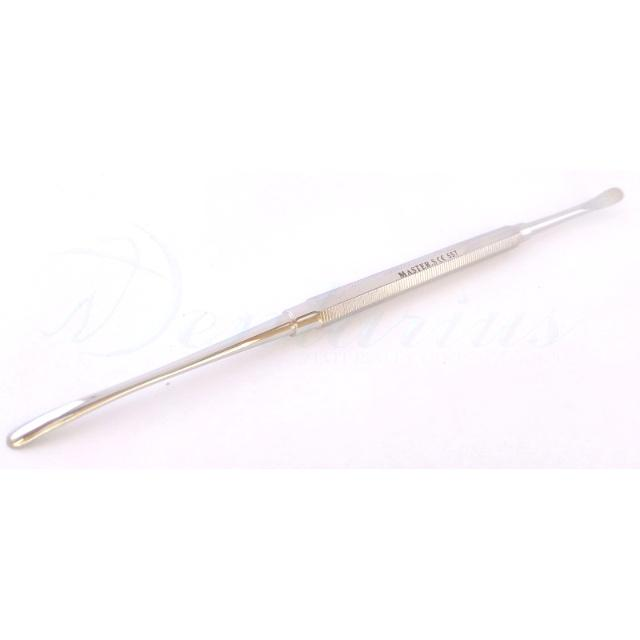elevador: (6, 187, 628, 452)
